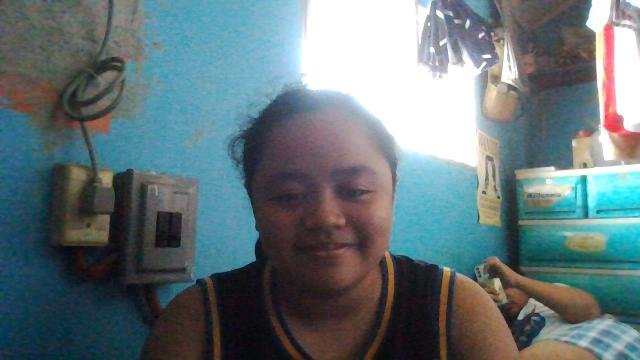senang: (254, 109, 397, 290)
